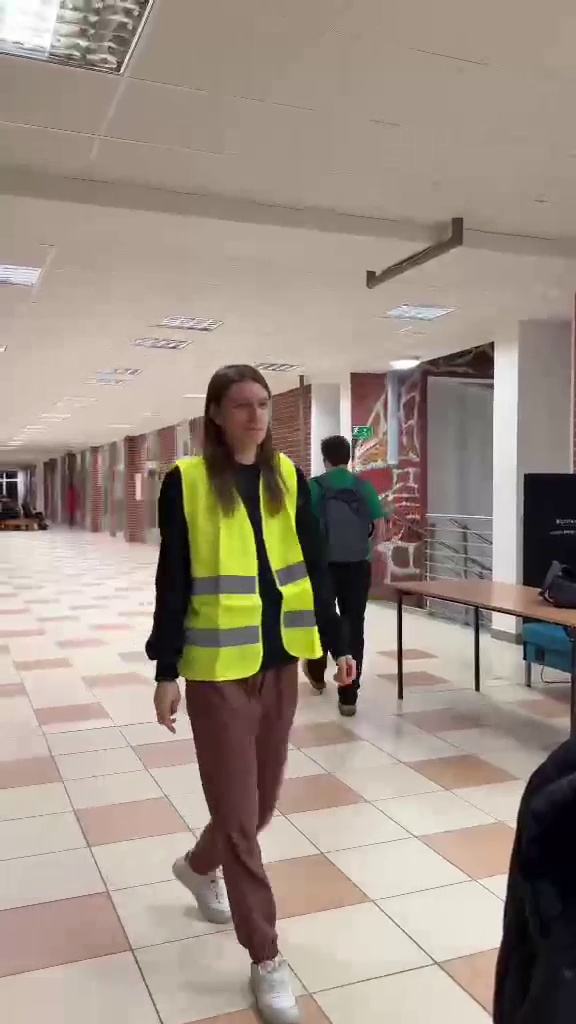no vest: (307, 437, 421, 695)
vest: (157, 353, 309, 990)
